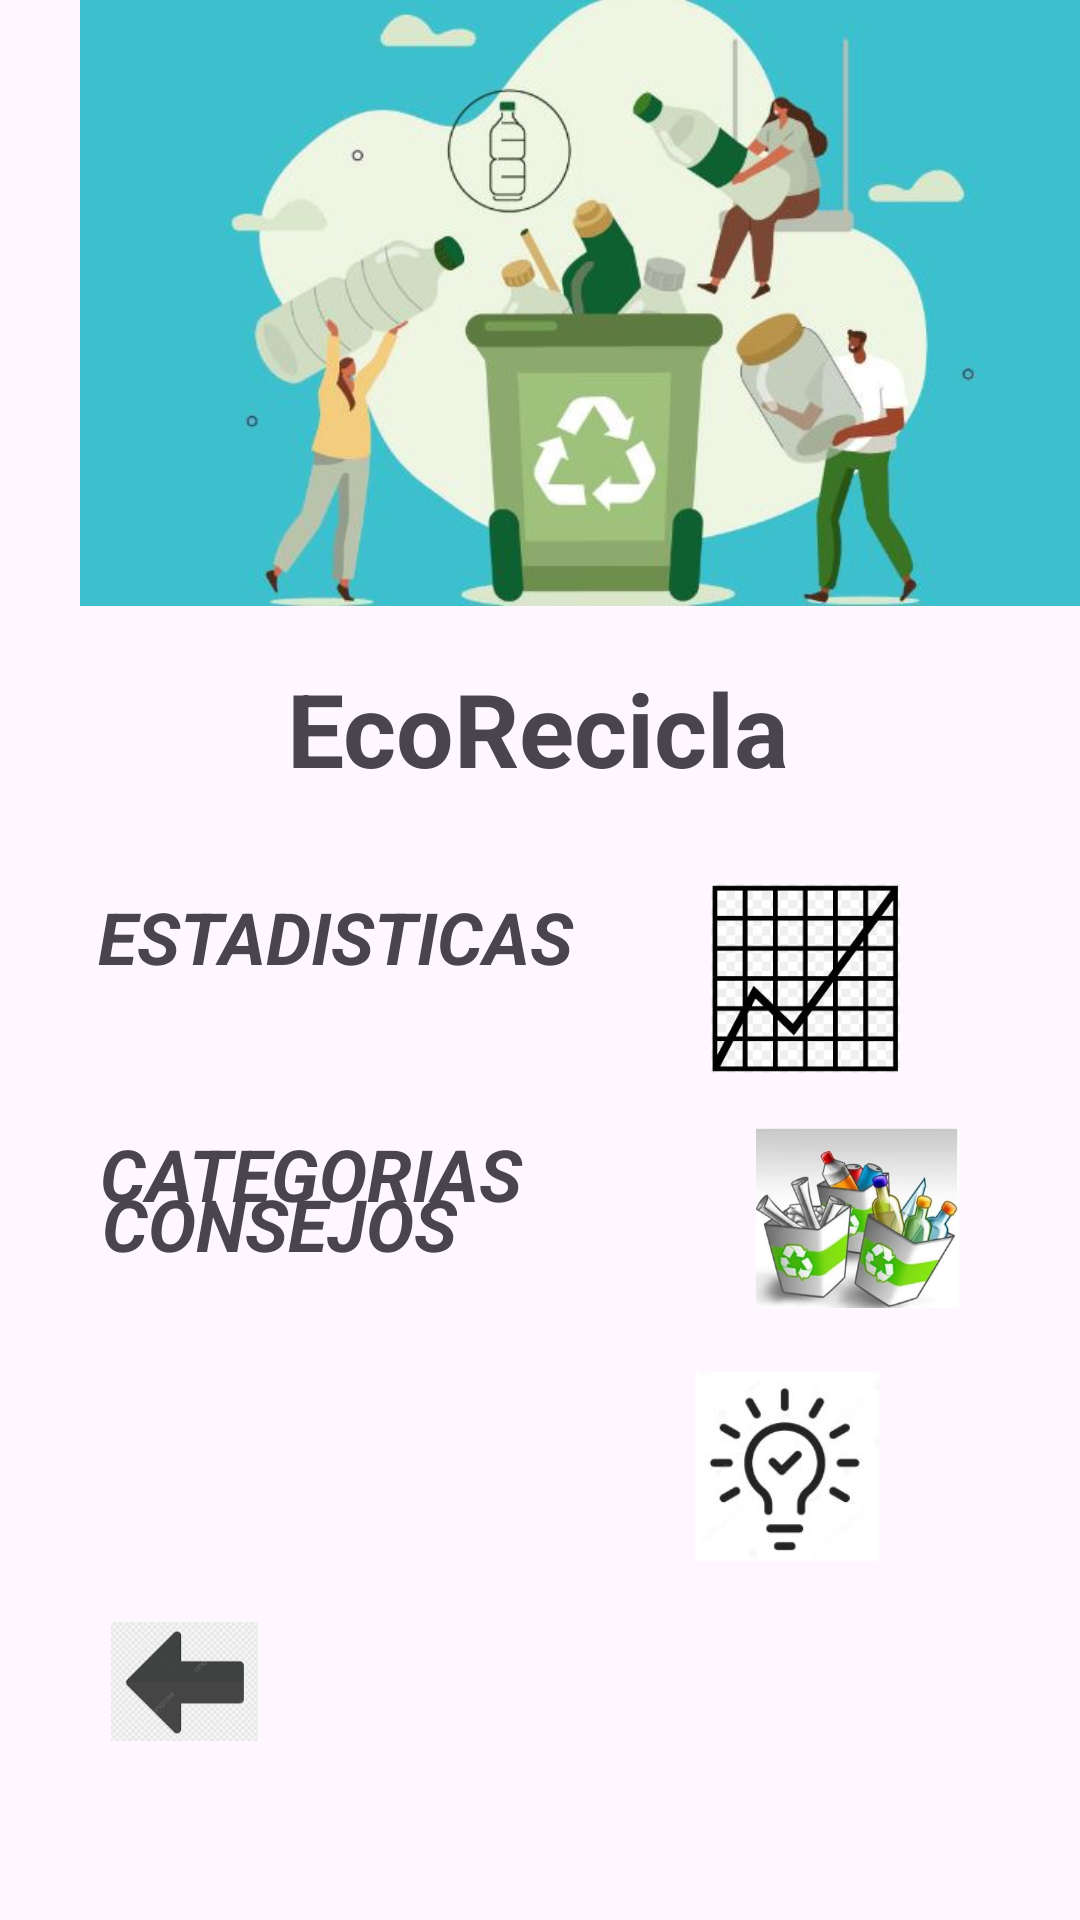

Icon bounding boxes for this 1080×1920 phone screenshot, format (x1, y1, x2, y2):
atras: (111, 1622, 258, 1741)
elementos reciclar gr fica: (756, 1129, 958, 1308)
tip reciclaje: (709, 1388, 860, 1551)
